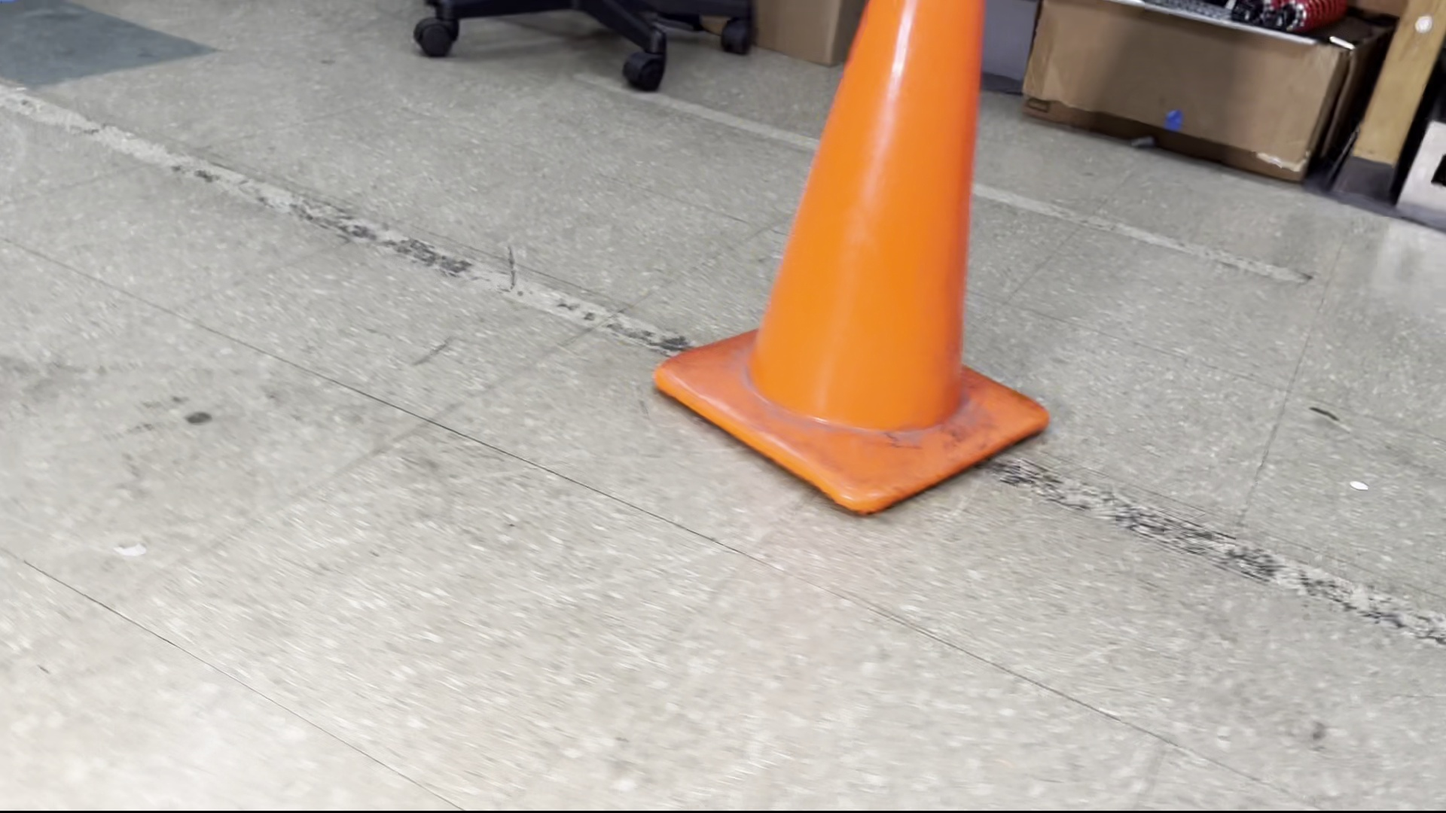traffic_cone: (652, 0, 1051, 517)
